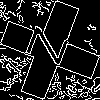Z: (25, 25, 79, 71)
